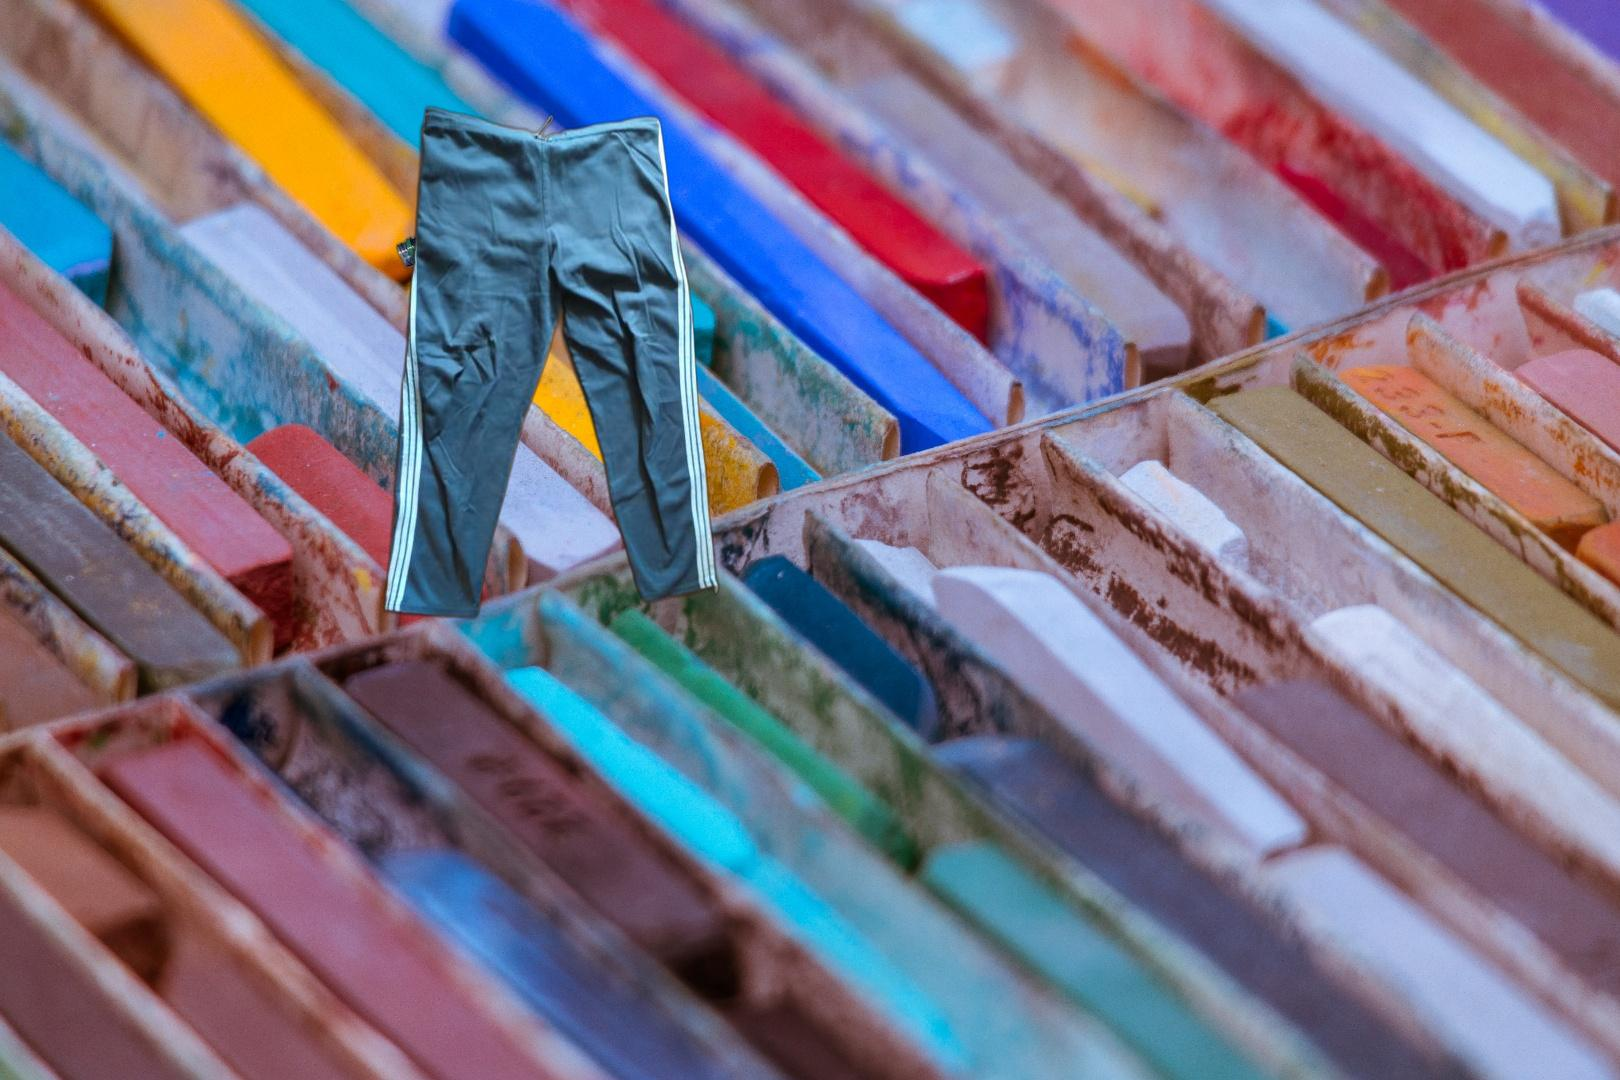clothes: (381, 82, 723, 624)
plastic-bottles: (393, 121, 655, 288)
